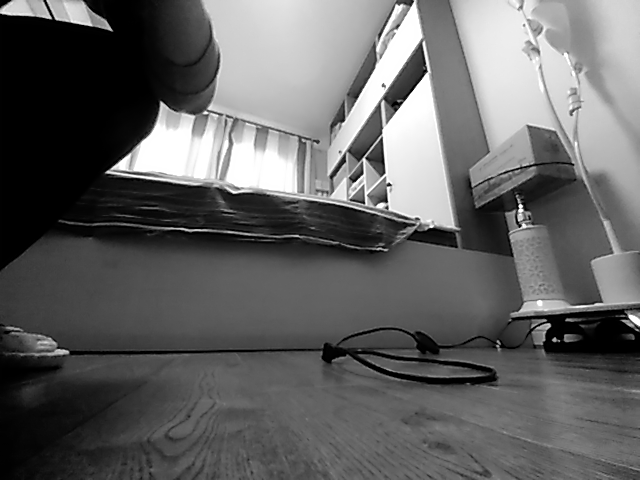wire: (318, 320, 546, 389)
